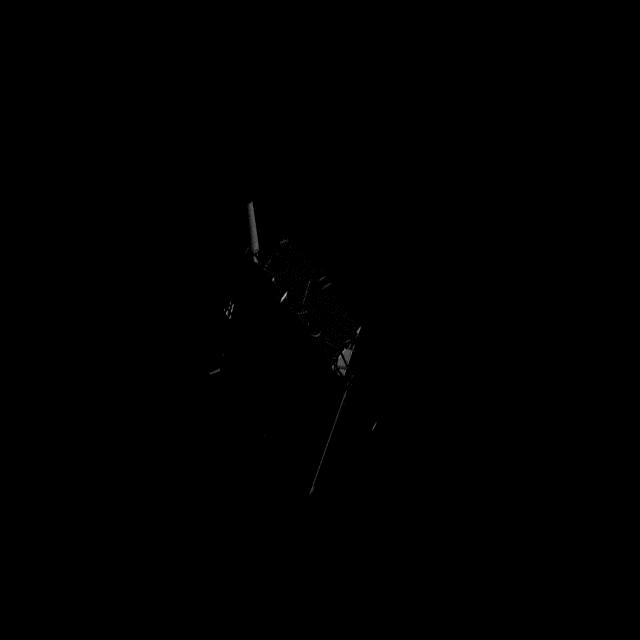satellite: (202, 196, 396, 494)
